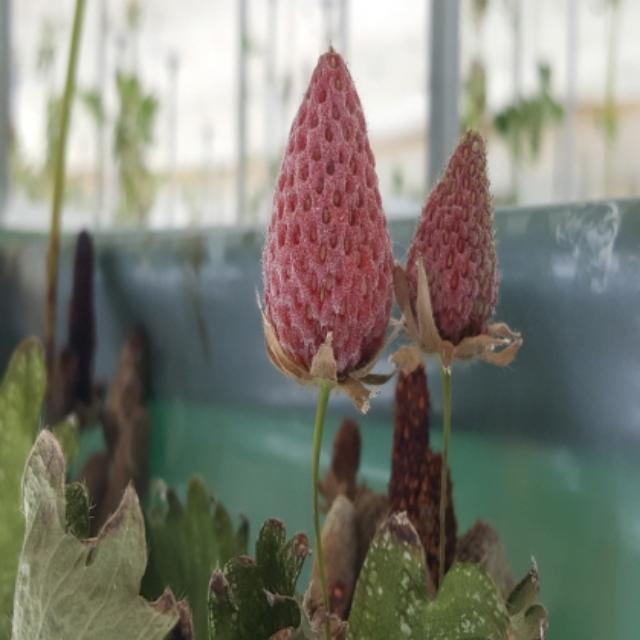Powdery Mildew Fruit: (262, 47, 395, 385), (400, 126, 499, 358)
